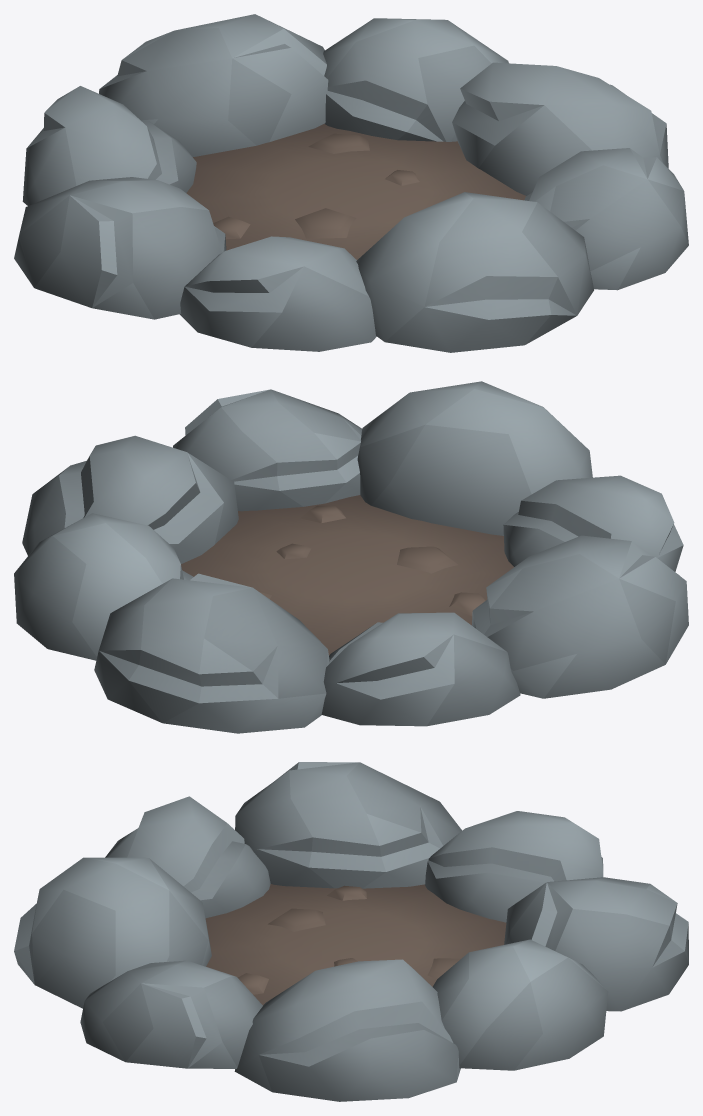
Rendered from Campfire_Base.obj.
The picture shows the model from 3 angles, top to bottom: view 1: azimuth 30°, elevation 25°; view 2: azimuth 150°, elevation 25°; view 3: azimuth 270°, elevation 25°; orthographic projection. The views are drawn at different scales.
Visible parts, largest first — view 1: Campfire_Base; view 2: Campfire_Base; view 3: Campfire_Base.
Boxes of the visible parts, bbox=[...] form: Campfire_Base: bbox=[14, 14, 688, 352]; Campfire_Base: bbox=[14, 381, 688, 733]; Campfire_Base: bbox=[14, 762, 688, 1101].
Size of the model in its own units: 1.69 by 0.2921 by 1.72.
1 material, 1 textured.
